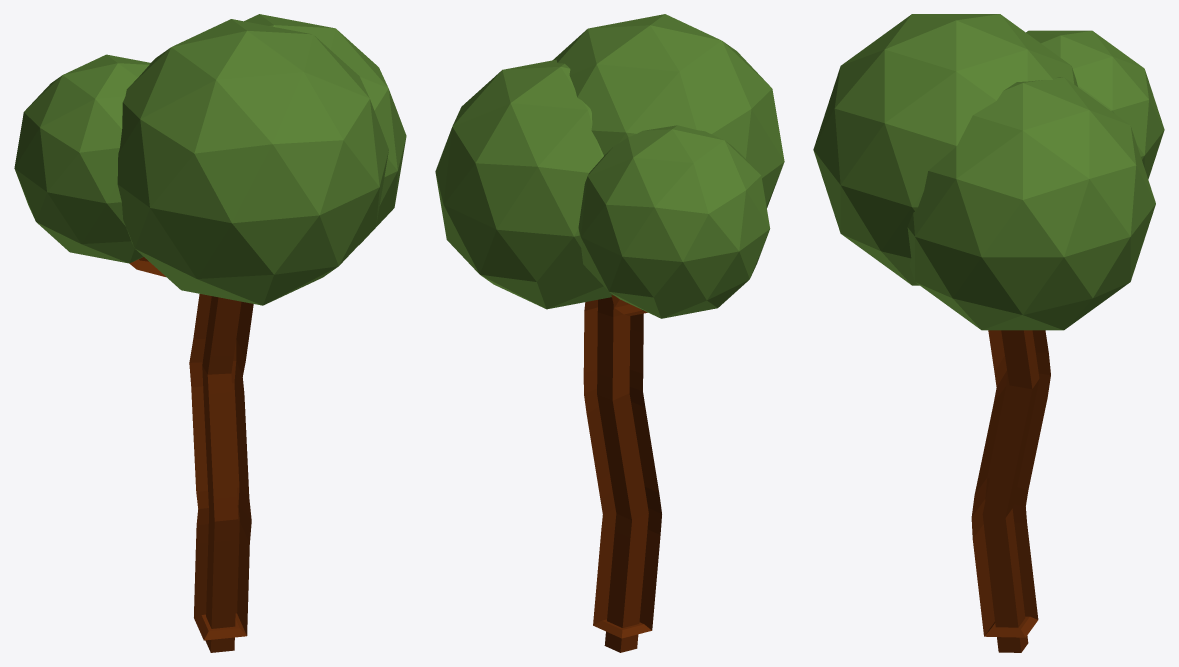
The model's file is drzewo.glb.
3 renders of one model, left to right at view 1: azimuth 30°, elevation 25°; view 2: azimuth 150°, elevation 25°; view 3: azimuth 270°, elevation 25°, orthographic. The views are drawn at different scales.
Visible parts, largest first — view 1: Cube; view 2: Cube; view 3: Cube.
Boxes of the visible parts, box(x1,y1,x2,y2) form: Cube: box(14, 14, 406, 652); Cube: box(435, 14, 784, 652); Cube: box(813, 14, 1164, 652).
Bounding box in the file's own units: 7.97 × 14.47 × 7.34.
